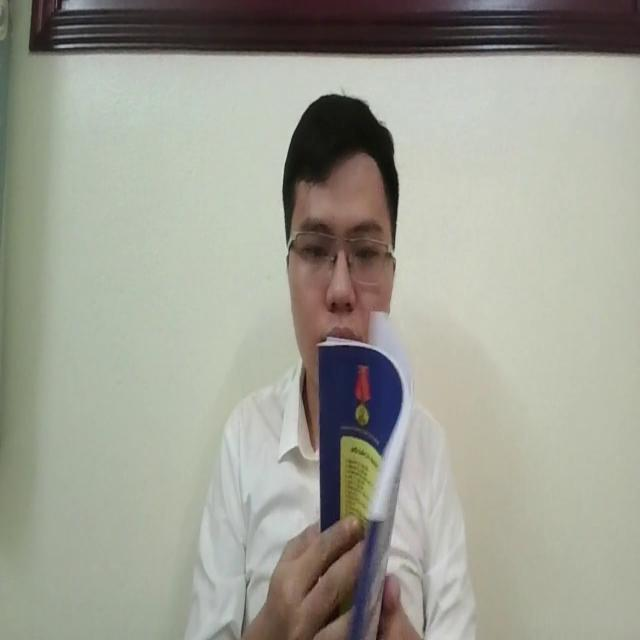book: (314, 305, 419, 640)
student: (181, 86, 488, 640)
